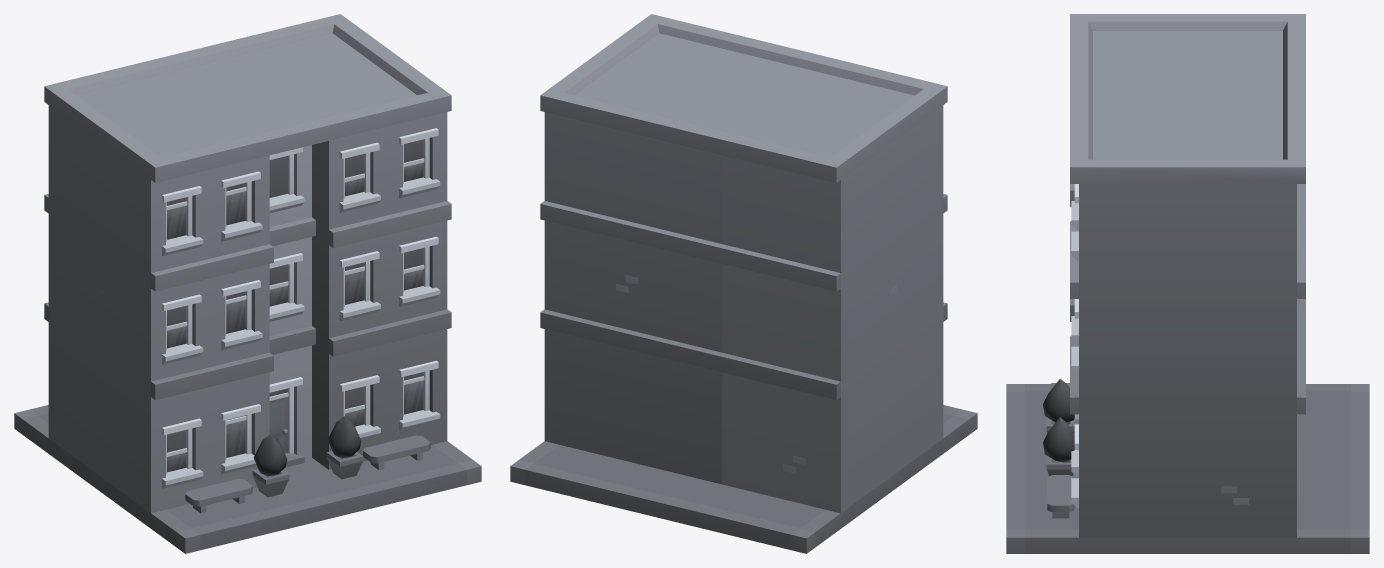
The model's file is tokyo-walkup-b.glb.
The picture shows the model from 3 angles, left to right: view 1: azimuth 30°, elevation 25°; view 2: azimuth 150°, elevation 25°; view 3: azimuth 270°, elevation 25°; orthographic projection. The views are drawn at different scales.
Visible parts, largest first — view 1: building_F; view 2: building_F; view 3: building_F.
Boxes of the visible parts, x1,y1,x2,y2 form: building_F: [14, 14, 481, 553]; building_F: [510, 14, 977, 553]; building_F: [1006, 14, 1369, 553].
Bounding box in the file's own units: 2.01 × 2.35 × 2.
Materials: 1 (1 with a texture image).
